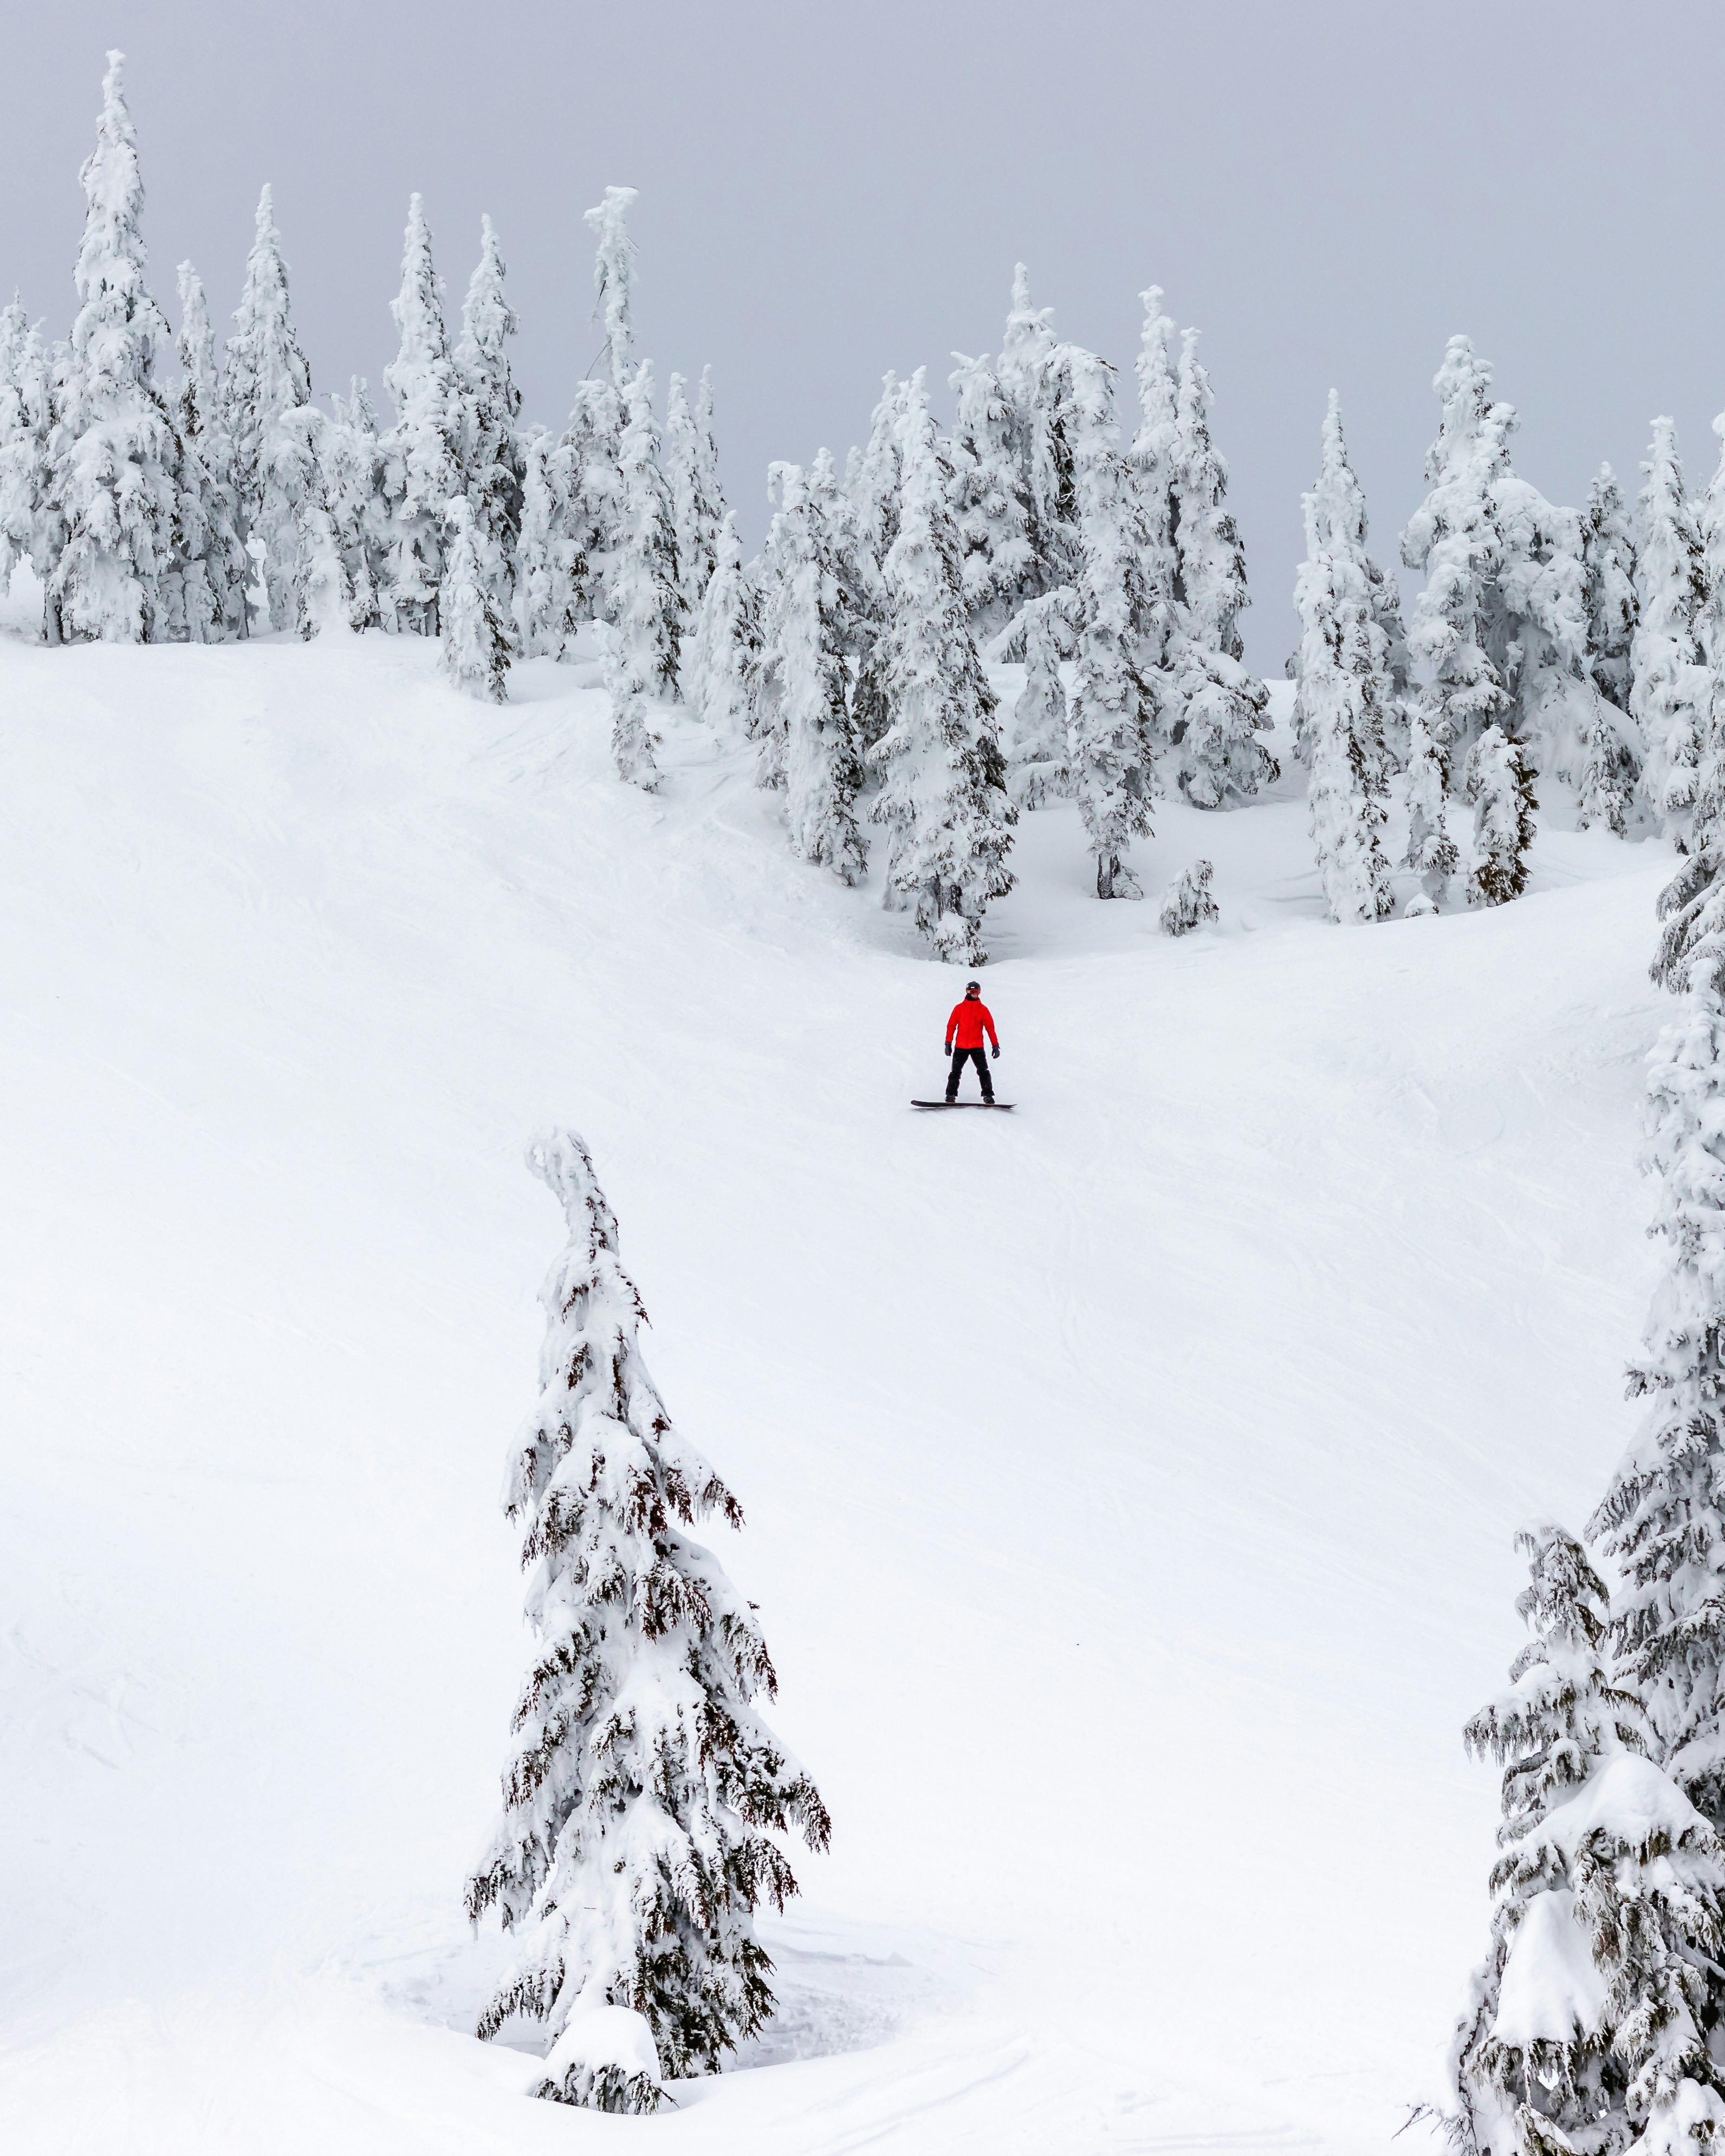snowboarder: (877, 966, 1039, 1116)
